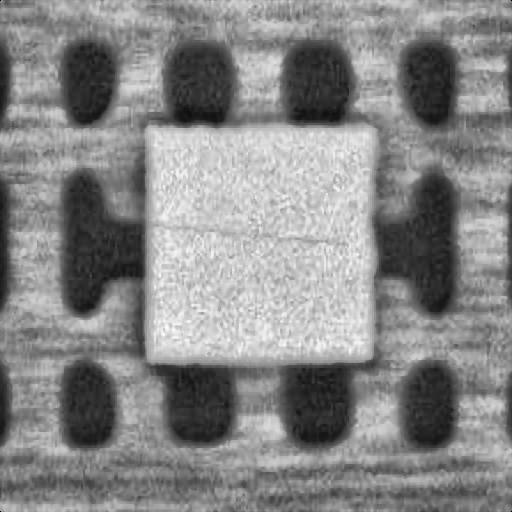DIE_CRACK: (223, 147, 512, 160)
